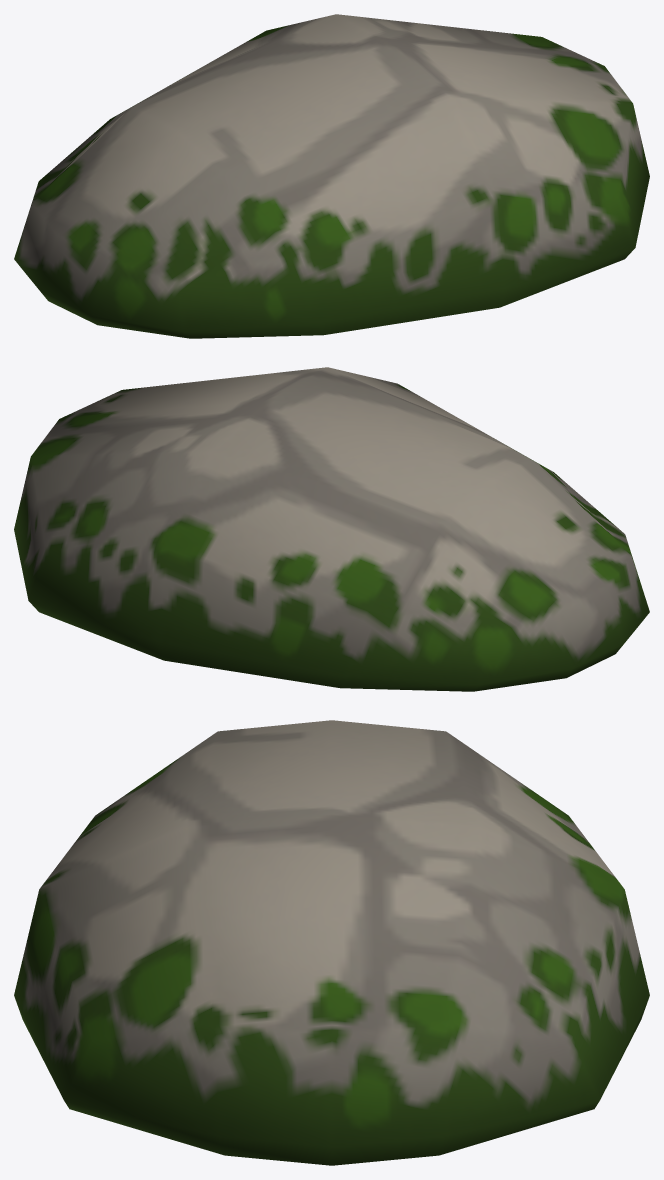
The model's file is rock1.gltf.
3 renders of one model, top to bottom at view 1: azimuth 30°, elevation 25°; view 2: azimuth 150°, elevation 25°; view 3: azimuth 270°, elevation 25°, orthographic. The views are drawn at different scales.
Parts seen in each view (by area): view 1: Rock_06; view 2: Rock_06; view 3: Rock_06.
Part boxes in pixels (left/top/right/bottom): Rock_06: left=14, top=14, right=649, bottom=338; Rock_06: left=14, top=367, right=649, bottom=691; Rock_06: left=14, top=720, right=649, bottom=1165.
Size of the model in its own units: 42.57 by 11.83 by 31.54.
Materials: 1 (1 with a texture image).
